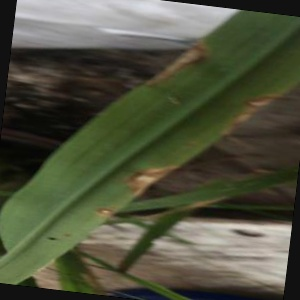Brown_Spot: (151, 32, 214, 100), (114, 157, 184, 205), (222, 82, 285, 135), (86, 199, 131, 234)
